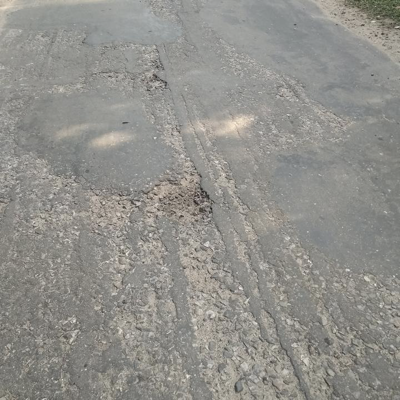pothole: (143, 175, 215, 223), (145, 74, 169, 94)
